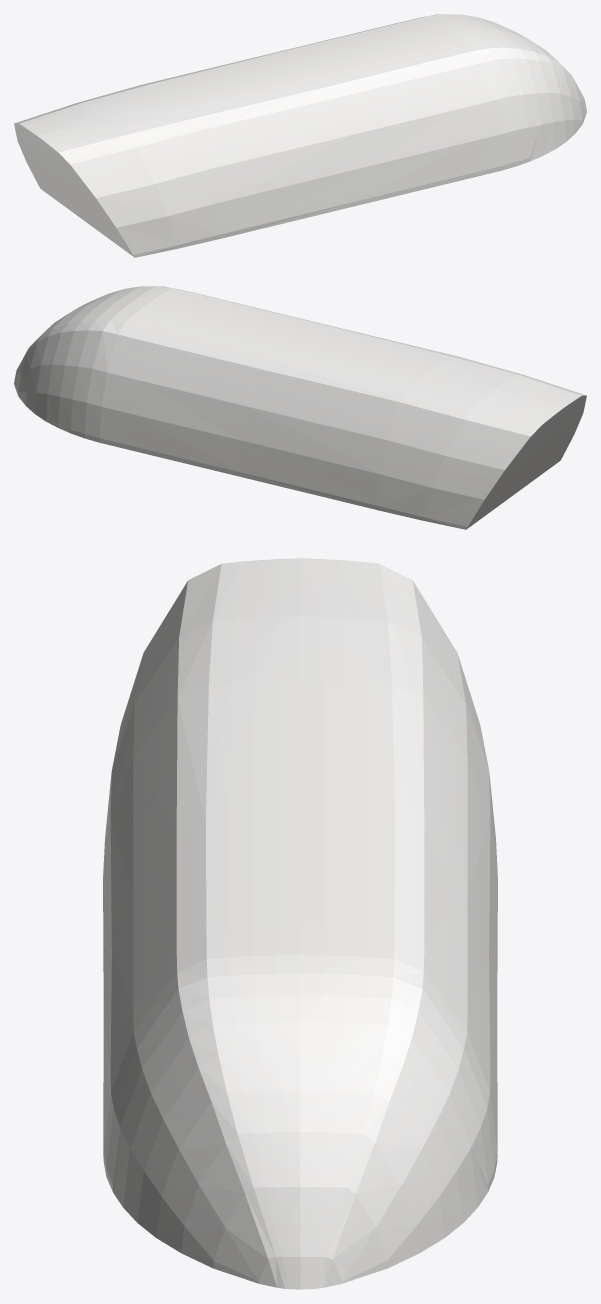
Rendered from HLO_PodTop.glb.
3 renders of one model, top to bottom at view 1: azimuth 30°, elevation 25°; view 2: azimuth 150°, elevation 25°; view 3: azimuth 270°, elevation 25°, orthographic. The views are drawn at different scales.
Visible parts, largest first — view 1: 001 Pod Top; view 2: 001 Pod Top; view 3: 001 Pod Top.
Boxes of the visible parts, bbox=[...] form: 001 Pod Top: bbox=[14, 14, 586, 257]; 001 Pod Top: bbox=[14, 286, 586, 529]; 001 Pod Top: bbox=[103, 558, 497, 1289].
Size of the model in its own units: 9.23 by 1.68 by 2.9.
1 material, 1 textured.
